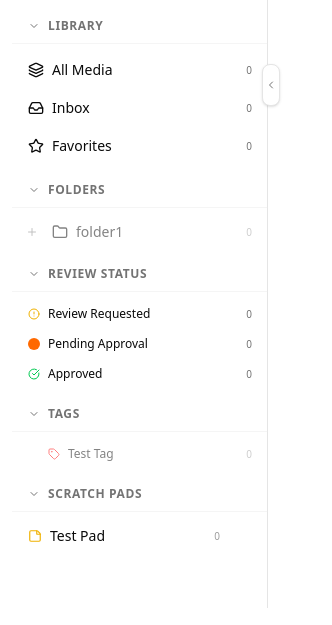
Scenario: Sidebar › toggles sections
The width and height of the screenshot is (332, 625).
Click the button "Library".
click(140, 26)  # box [28, 8, 252, 43]
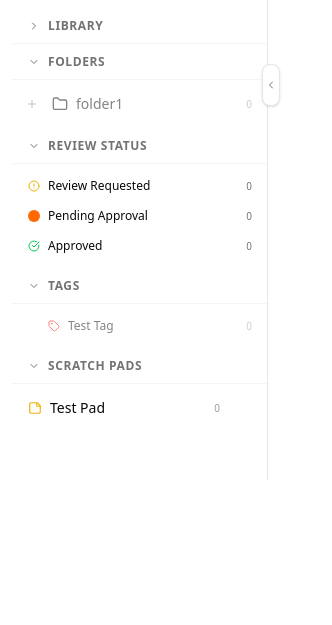
Expected: the button "All Media" is gone
Click the button "Library".
click(140, 26)  # box [28, 8, 252, 43]
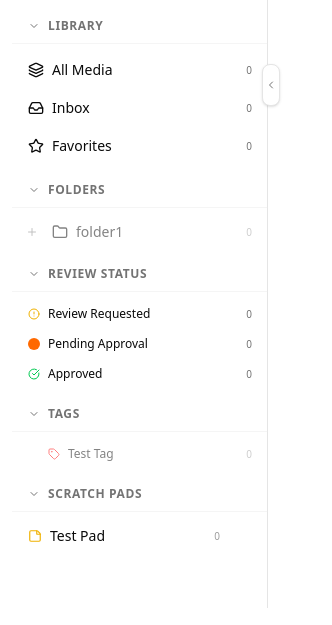
Expected: the text "All Media" is shown, [52, 60, 112, 79]
